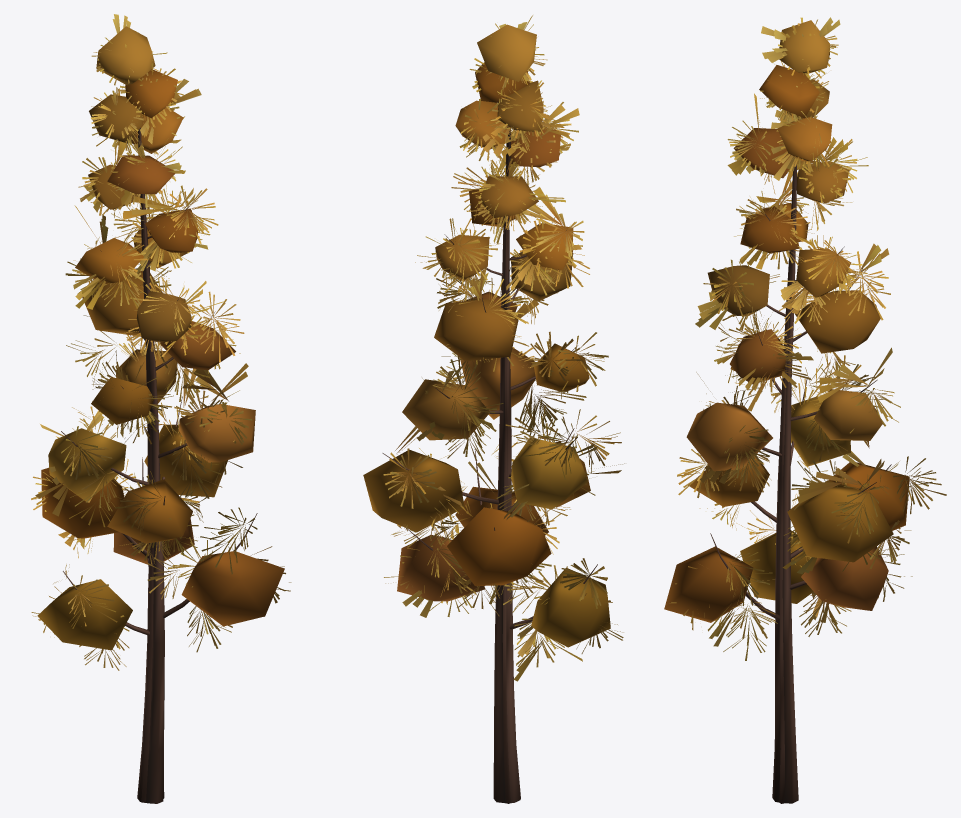
Rendered from golden-larch.glb.
3 views of the same model, side by side, from view 1: azimuth 30°, elevation 25°; view 2: azimuth 150°, elevation 25°; view 3: azimuth 270°, elevation 25° (orthographic). The views are drawn at different scales.
Parts seen in each view (by area): view 1: golden-larch-lo, golden-larch; view 2: golden-larch-lo, golden-larch; view 3: golden-larch-lo, golden-larch.
Part boxes in pixels (box(x1,y1,x2,y2)): golden-larch-lo: box(35, 14, 284, 802); golden-larch: box(31, 31, 291, 803); golden-larch-lo: box(363, 15, 624, 803); golden-larch: box(383, 23, 623, 803); golden-larch-lo: box(664, 17, 909, 803); golden-larch: box(669, 17, 946, 803).
Bounding box in the file's own units: 7.87 × 22.87 × 7.55.
